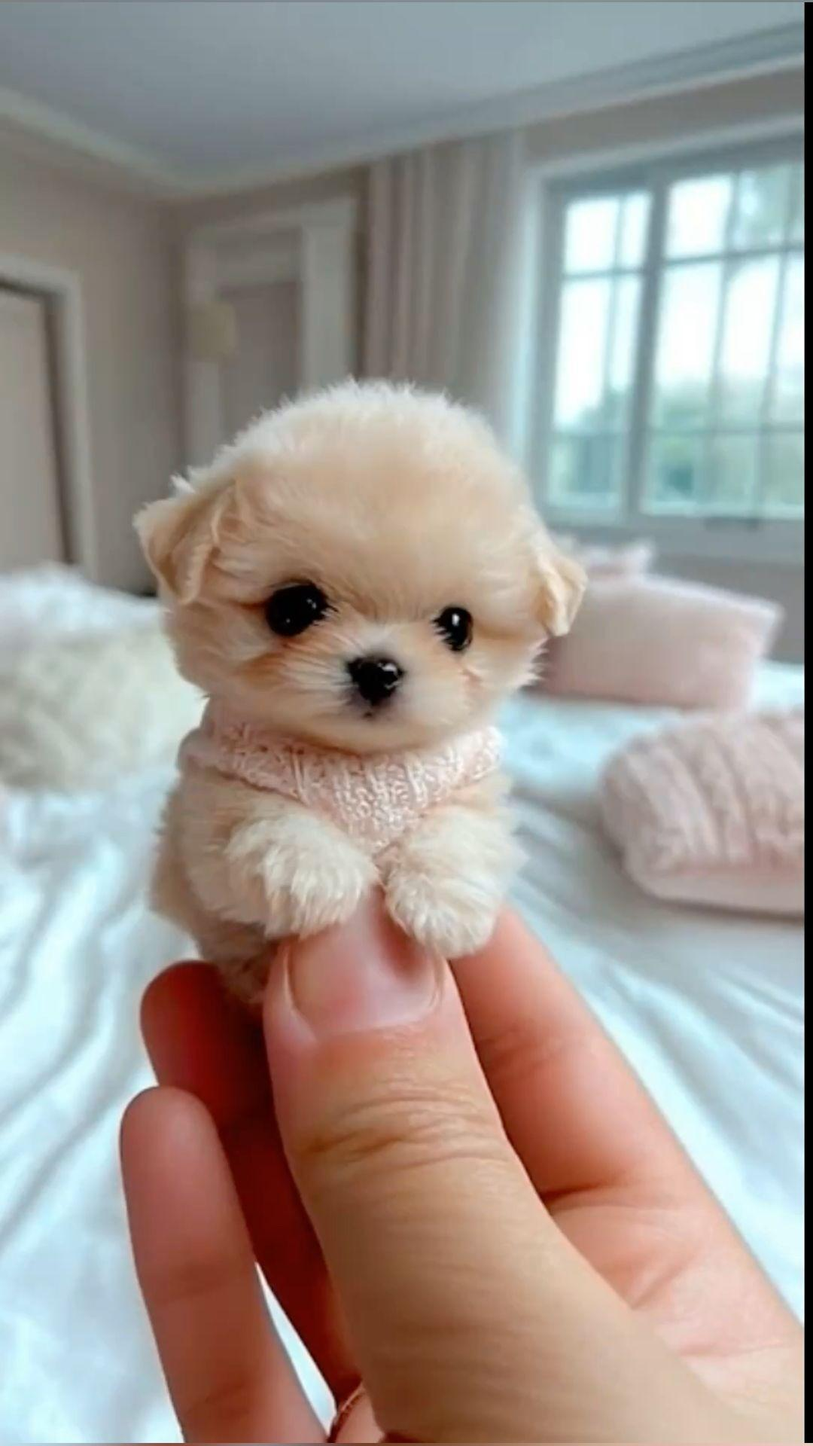puppy-dog: (130, 373, 586, 1011)
